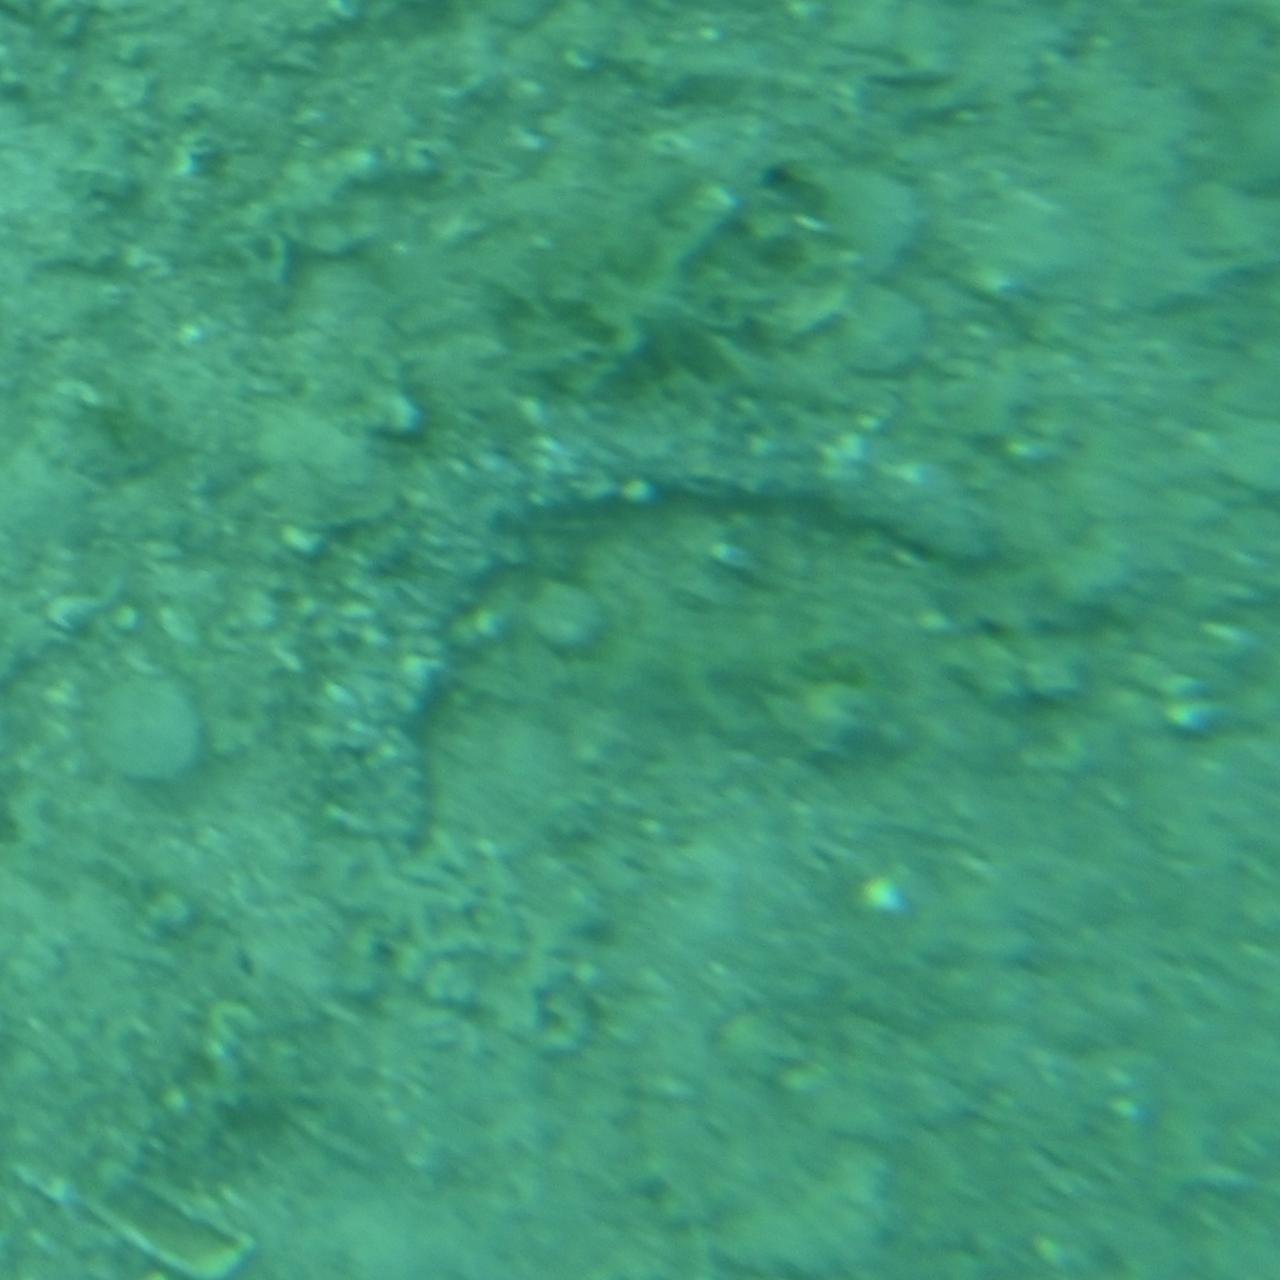Holothuria tubulosa: (327, 413, 1002, 867)
